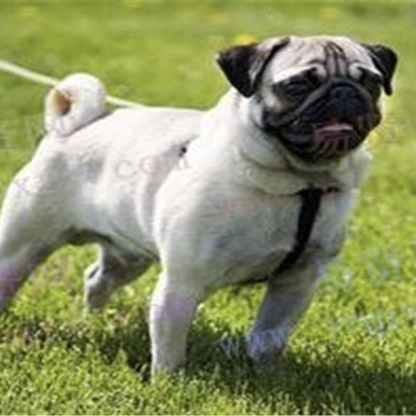Pug: (1, 25, 403, 386)
